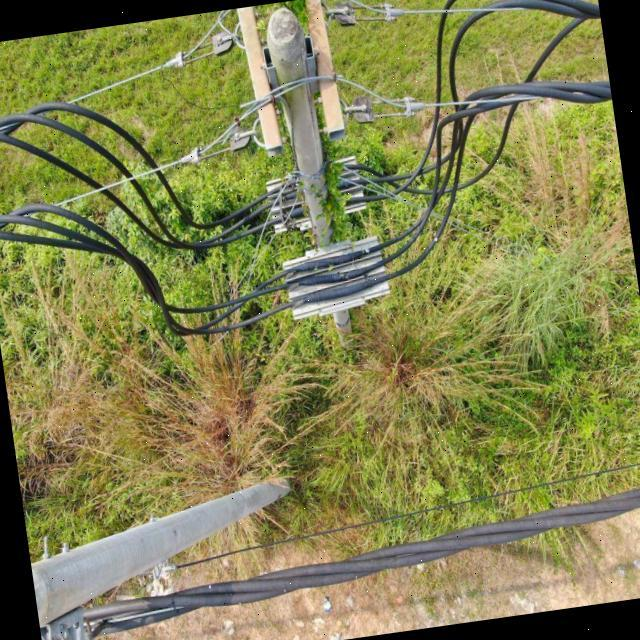critical vegetation: (274, 71, 356, 254)
